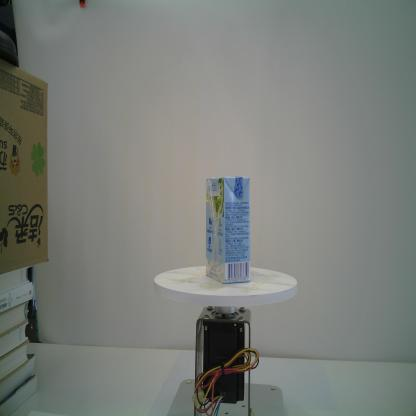Milk: (206, 176, 250, 285)
